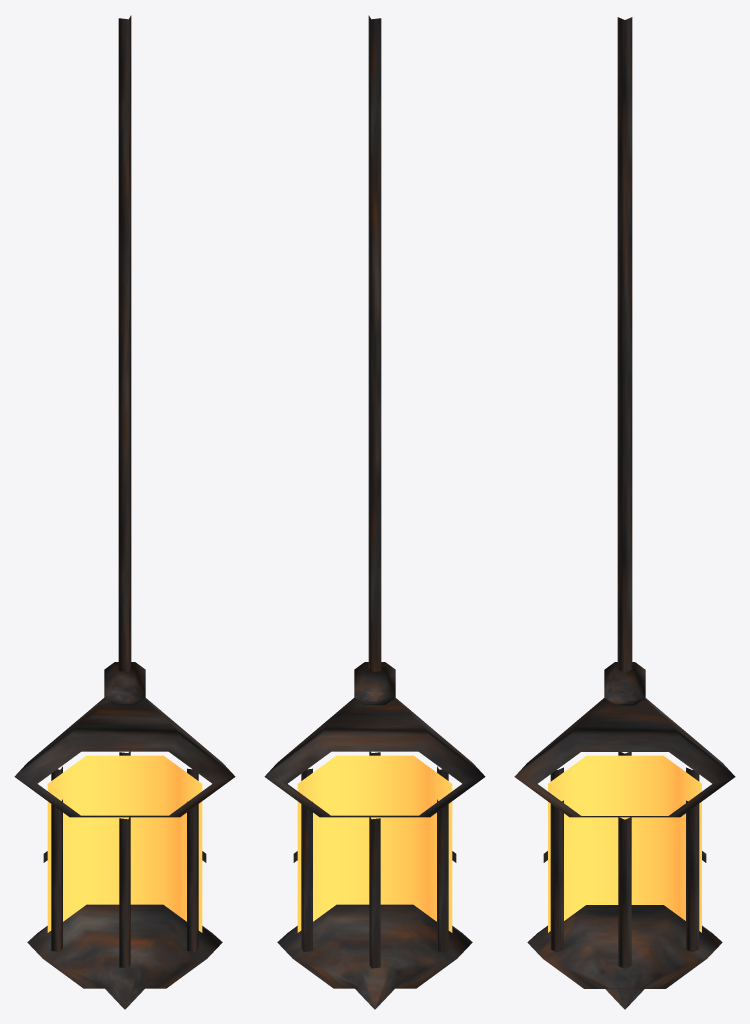
The model's file is sp_lantern_b.glb.
3 views of the same model, side by side, from view 1: azimuth 30°, elevation 25°; view 2: azimuth 150°, elevation 25°; view 3: azimuth 270°, elevation 25° (orthographic).
Visible parts, largest first — view 1: spire; view 2: spire; view 3: spire.
Part boxes in pixels (x1,y1,x2,y2): spire: [14, 15, 235, 1009]; spire: [264, 15, 485, 1009]; spire: [514, 17, 735, 1009].
Bounding box in the file's own units: 0.3724 × 2.13 × 0.43.
2 materials, 1 textured.
